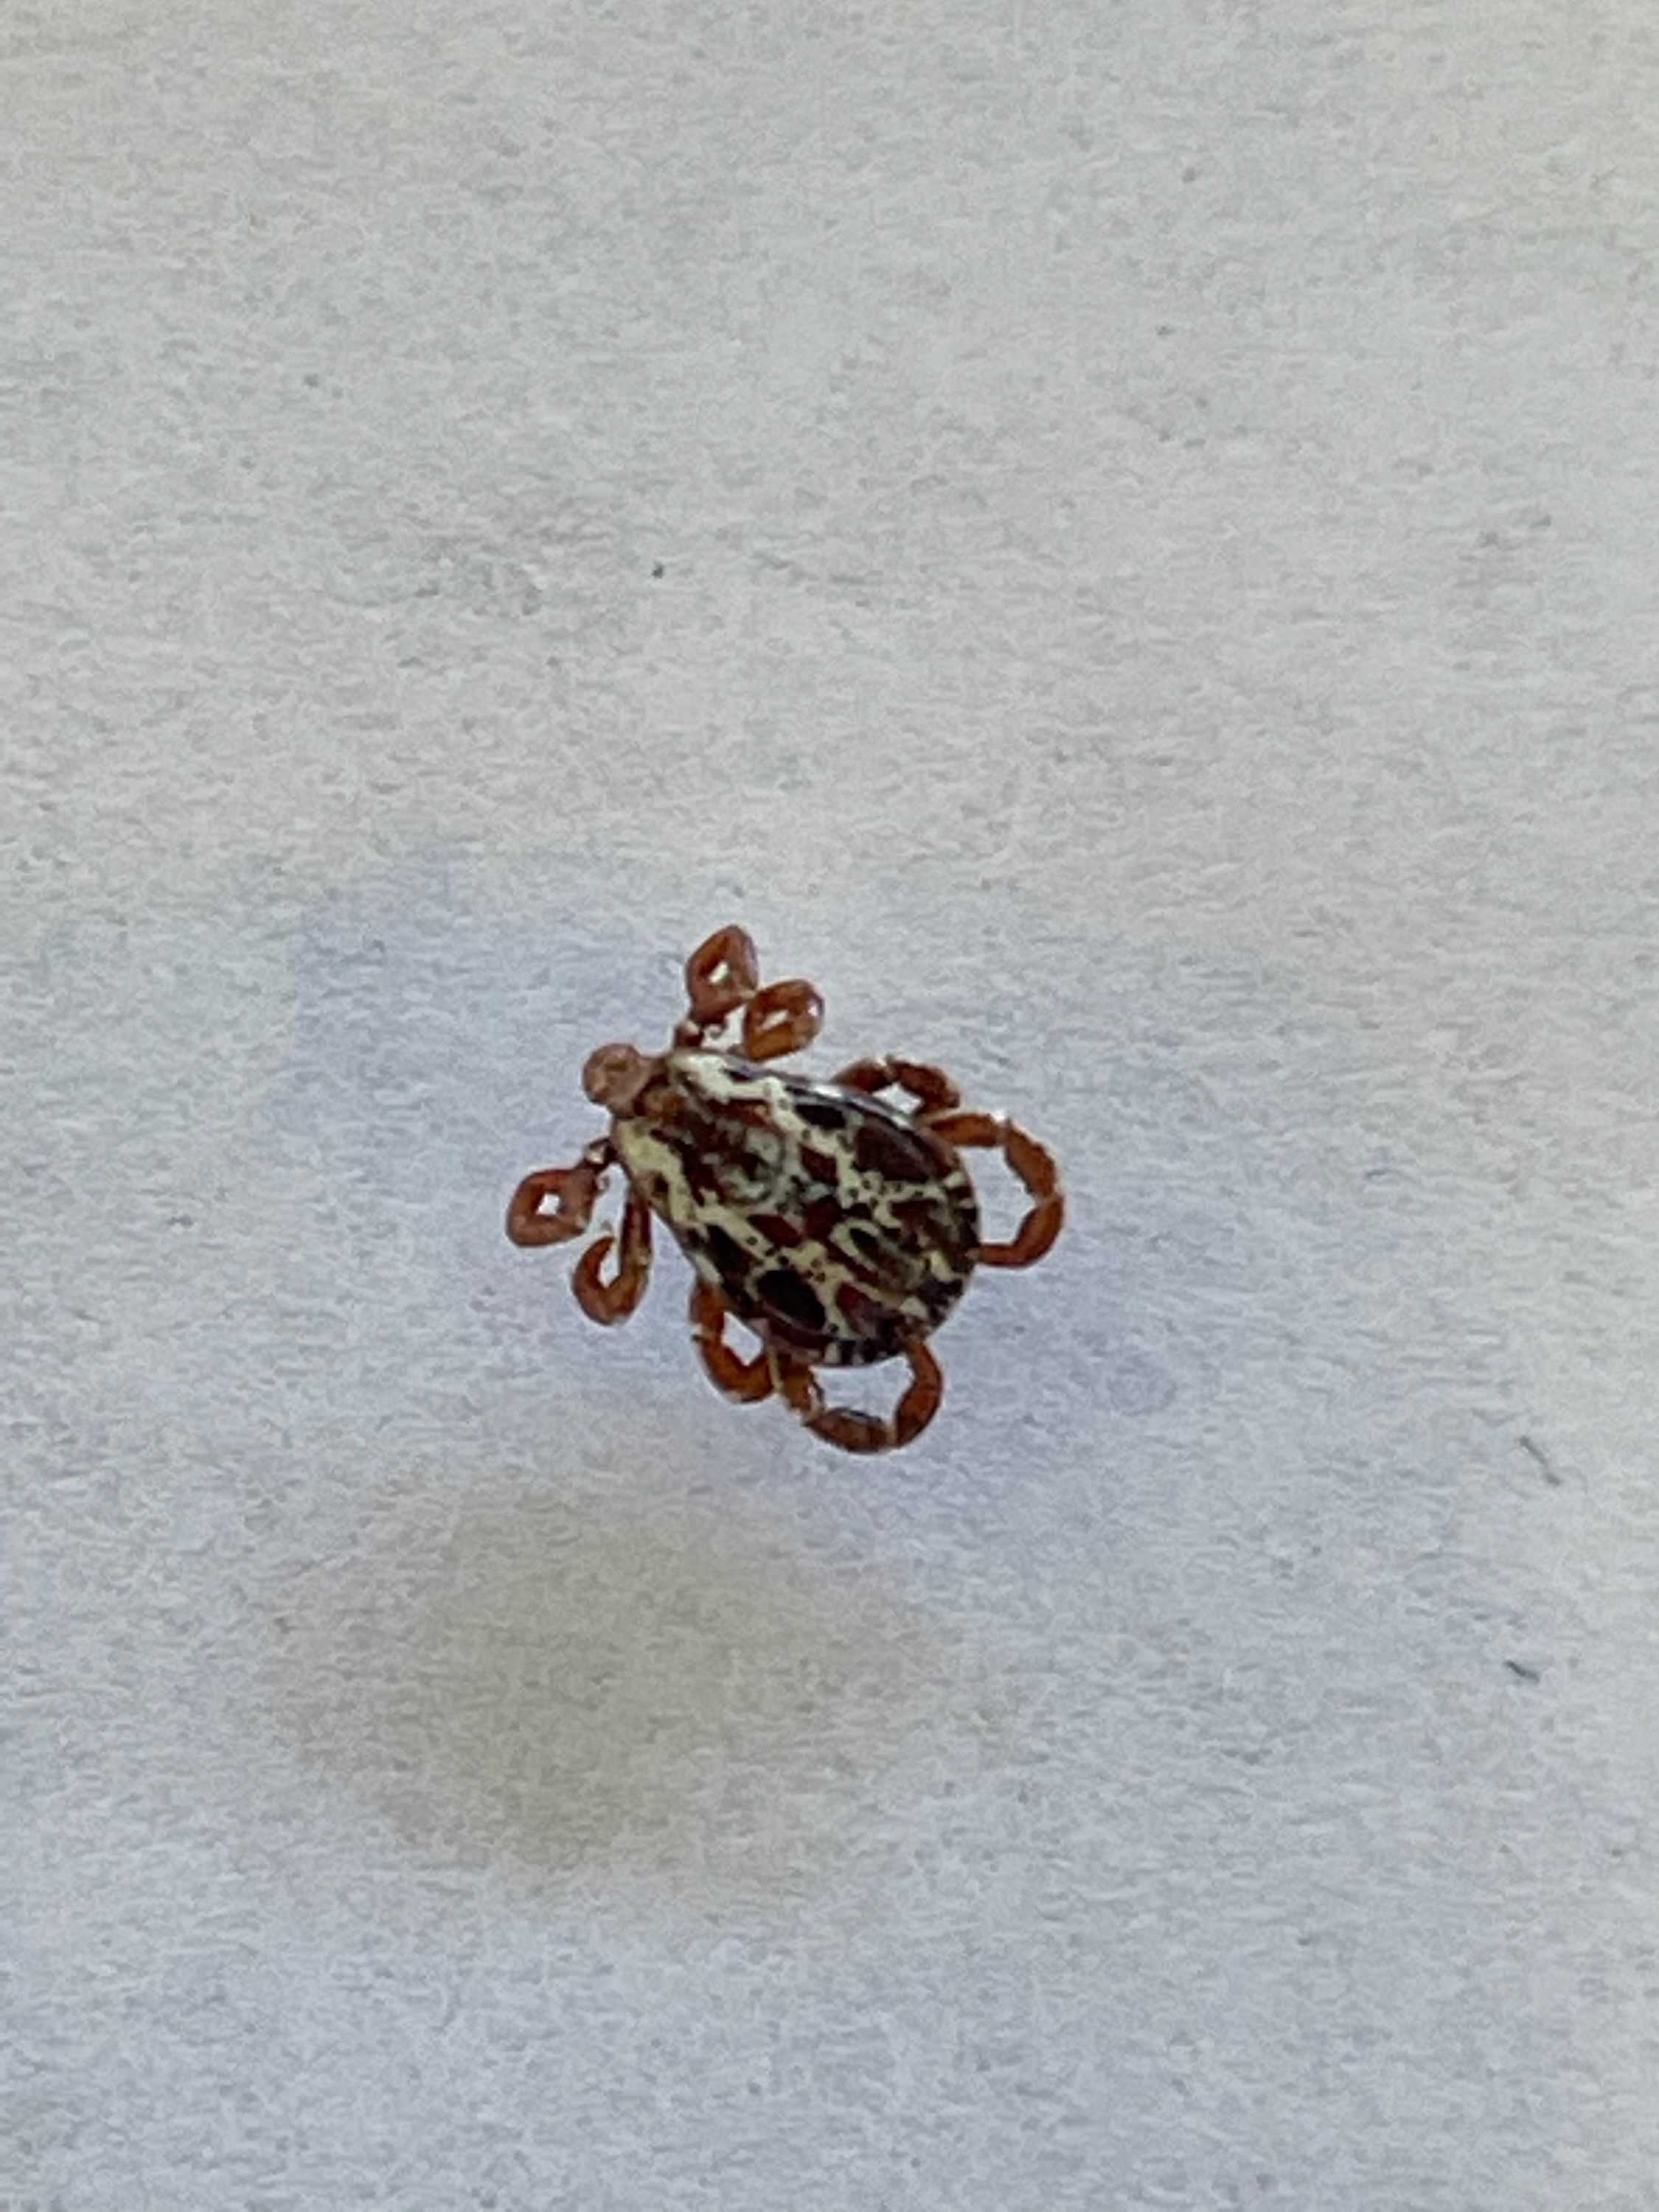unlabelled_tick: (469, 901, 1111, 1481)
